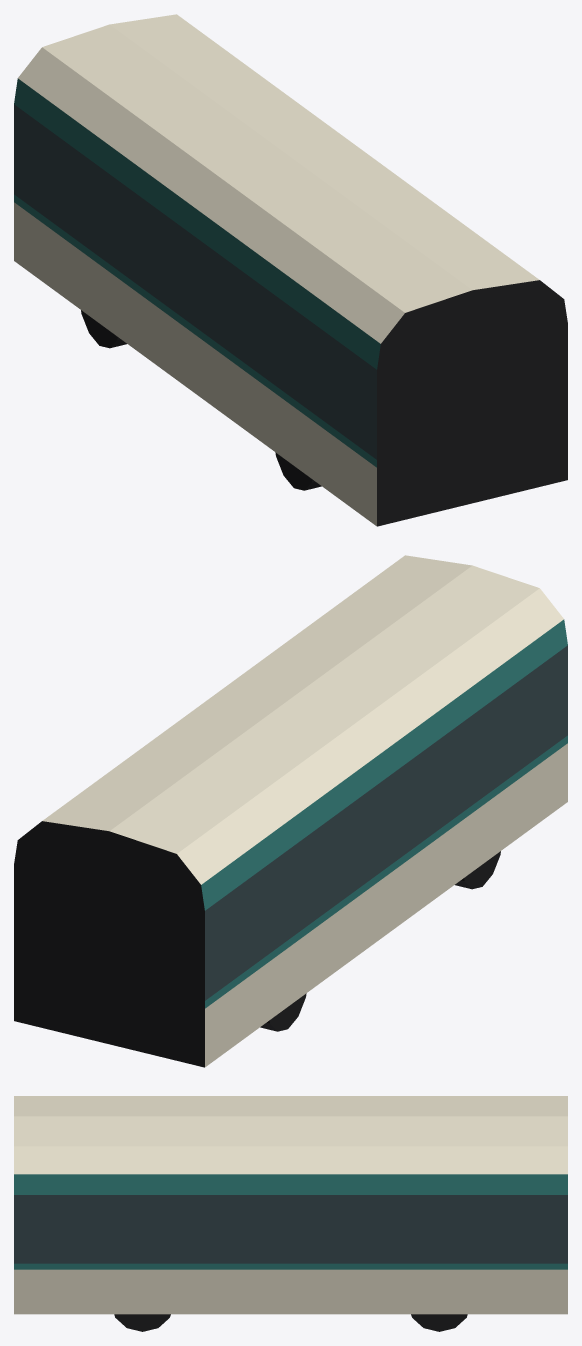
File: carrow_tram_mid_lod.glb
3 renders of one model, top to bottom at view 1: azimuth 30°, elevation 25°; view 2: azimuth 150°, elevation 25°; view 3: azimuth 270°, elevation 25°, orthographic. The views are drawn at different scales.
Parts seen in each view (by area): view 1: lod; view 2: lod; view 3: lod.
Boxes of the visible parts, left/top/right/bottom form: lod: left=14, top=14, right=567, bottom=526; lod: left=14, top=555, right=567, bottom=1067; lod: left=14, top=1096, right=567, bottom=1331.
Bounding box in the file's own units: 2.55 × 3.02 × 8.4.
